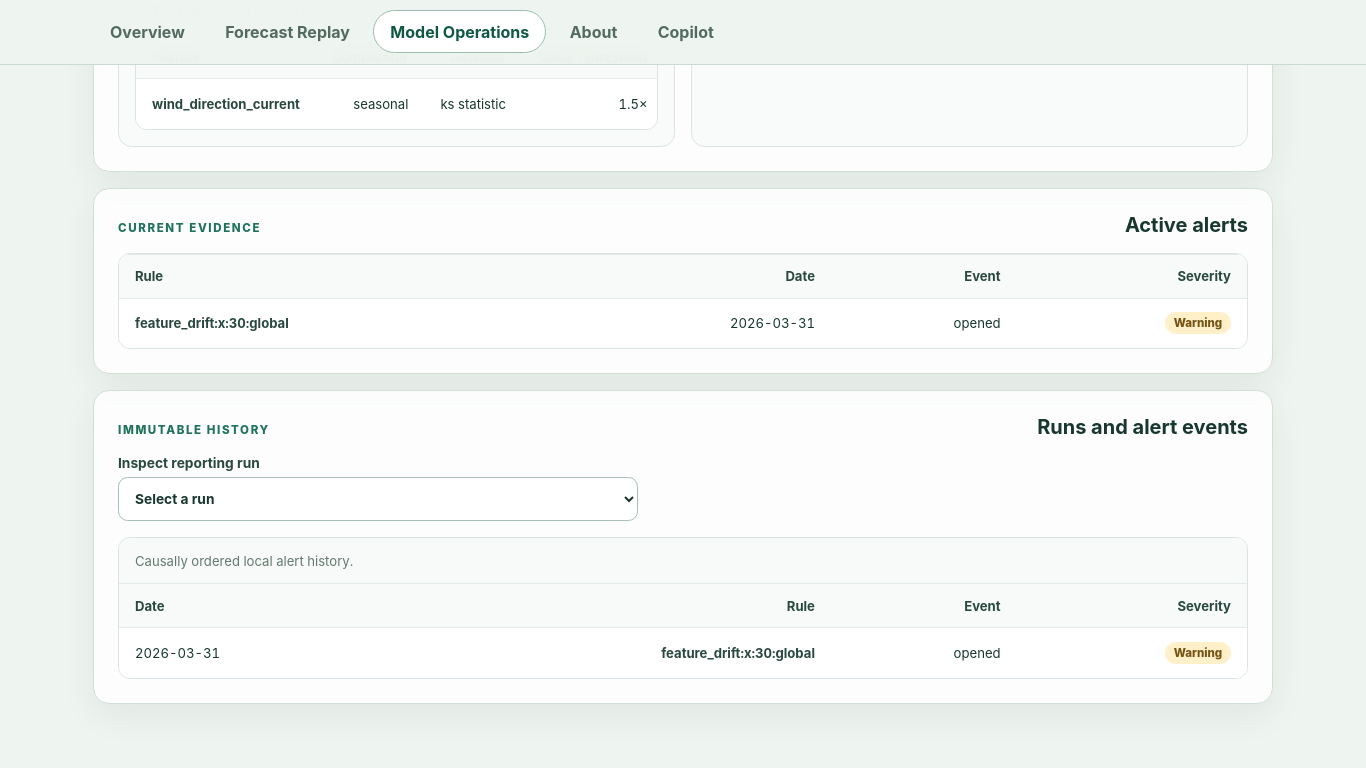
App pages › does not expose local filesystem paths in run details
(page scrolled)
Step 1. Select "2026-03-31 — succeeded" in the dropdown labelled "Inspect reporting run" → (378, 499), box x1=118 y1=477 x2=638 y2=521
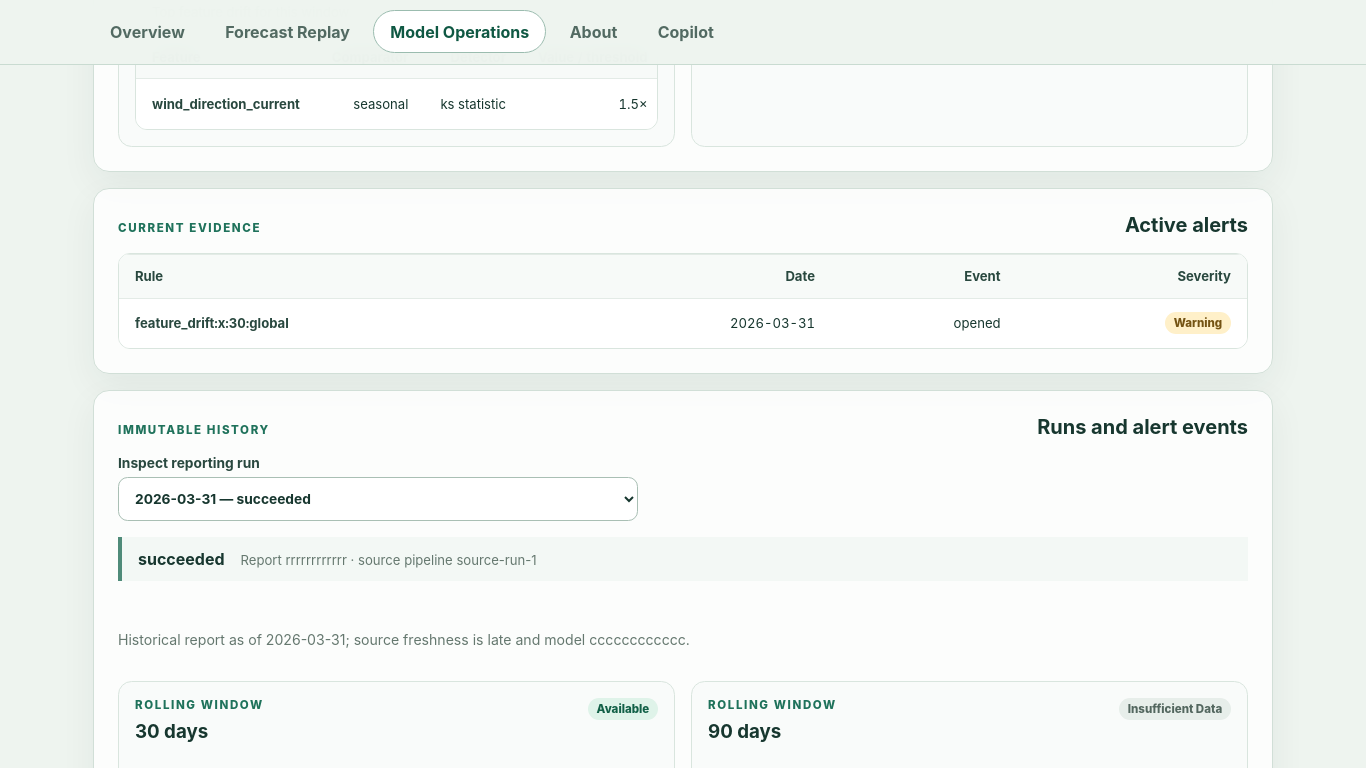
Now the text "Report rrrrrrrrrrrr · source pipeline source-run-1" is shown, box x1=240 y1=552 x2=537 y2=568
